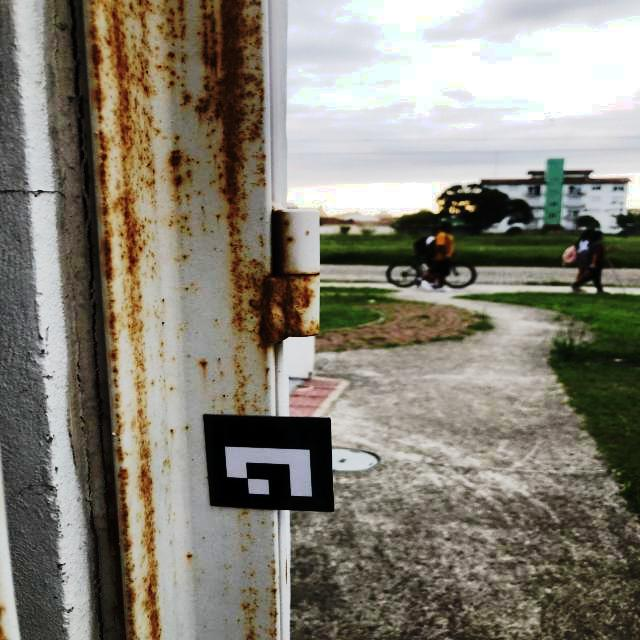Corrosion: (85, 0, 321, 640), (237, 587, 279, 640), (228, 357, 250, 416), (250, 391, 269, 413), (267, 565, 277, 579), (240, 533, 255, 540), (286, 556, 289, 585), (198, 359, 207, 368), (163, 459, 171, 469), (259, 236, 265, 247), (185, 553, 192, 562), (265, 366, 270, 376), (241, 545, 247, 552), (241, 511, 249, 516), (242, 212, 247, 220), (271, 519, 275, 528), (263, 386, 269, 391), (304, 230, 309, 236), (215, 214, 220, 220), (183, 253, 188, 258), (185, 193, 190, 198), (217, 358, 221, 362)
